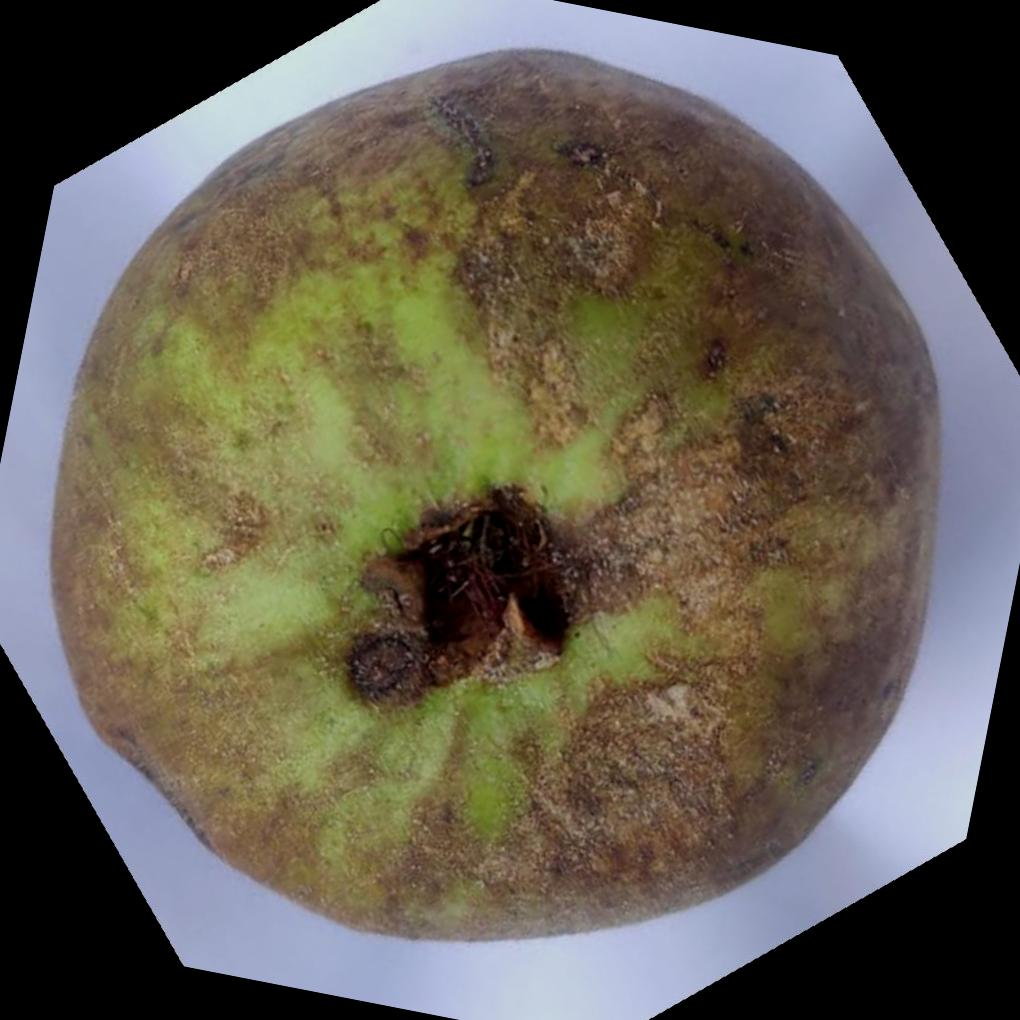FreshOrange: (51, 46, 947, 945)
